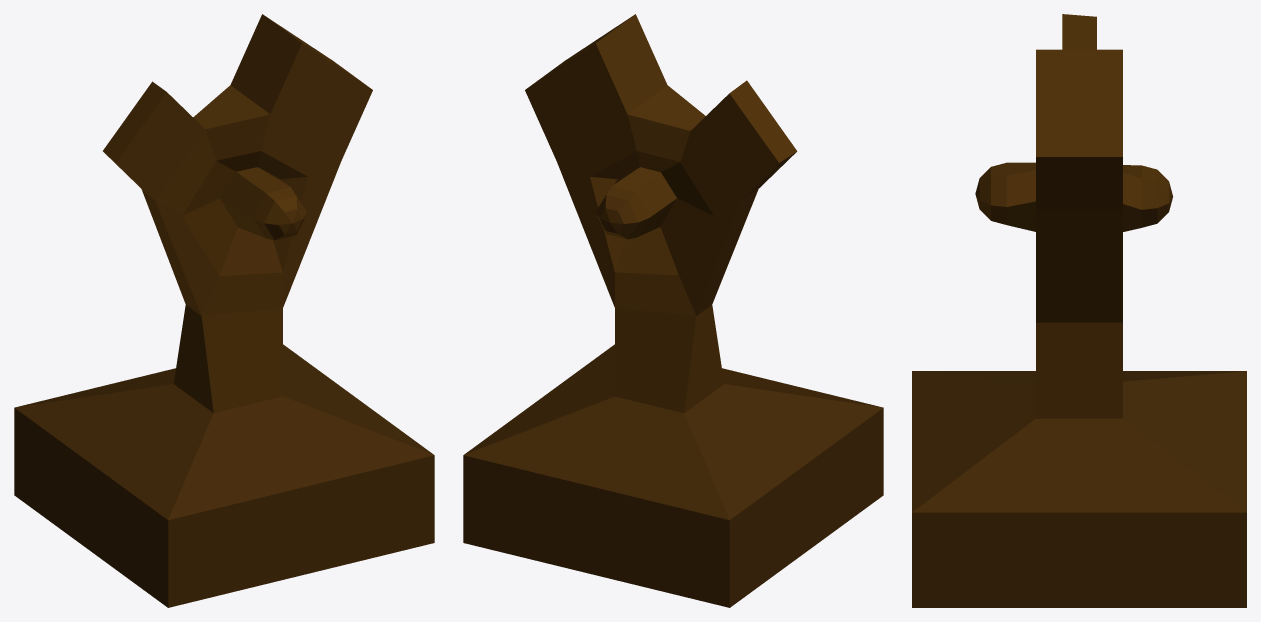
Rendered from Statue.fbx.
The picture shows the model from 3 angles, left to right: view 1: azimuth 30°, elevation 25°; view 2: azimuth 150°, elevation 25°; view 3: azimuth 270°, elevation 25°; orthographic projection. The views are drawn at different scales.
Visible parts, largest first — view 1: statue; view 2: statue; view 3: statue.
Part boxes in pixels (x1,y1,x2,y2): statue: (14,14,434,607); statue: (463,14,883,607); statue: (912,14,1246,607).
Bounding box in the file's own units: 0.2607 × 0.4454 × 0.2607.
